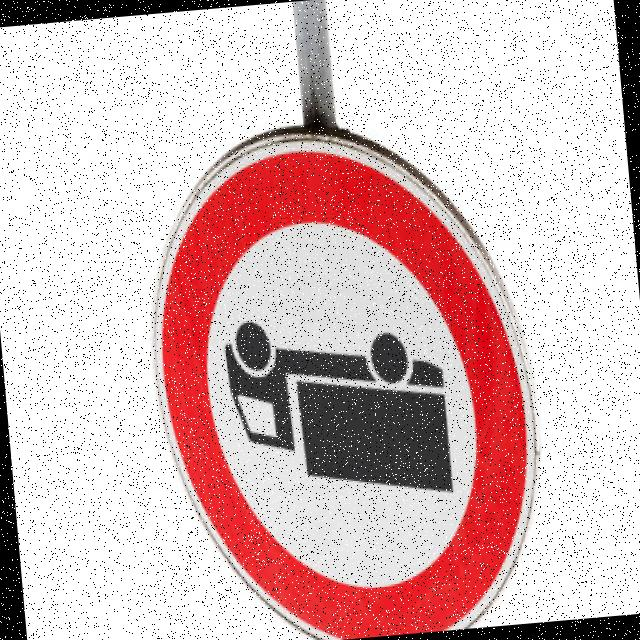do_not_enter: (118, 100, 555, 640)
